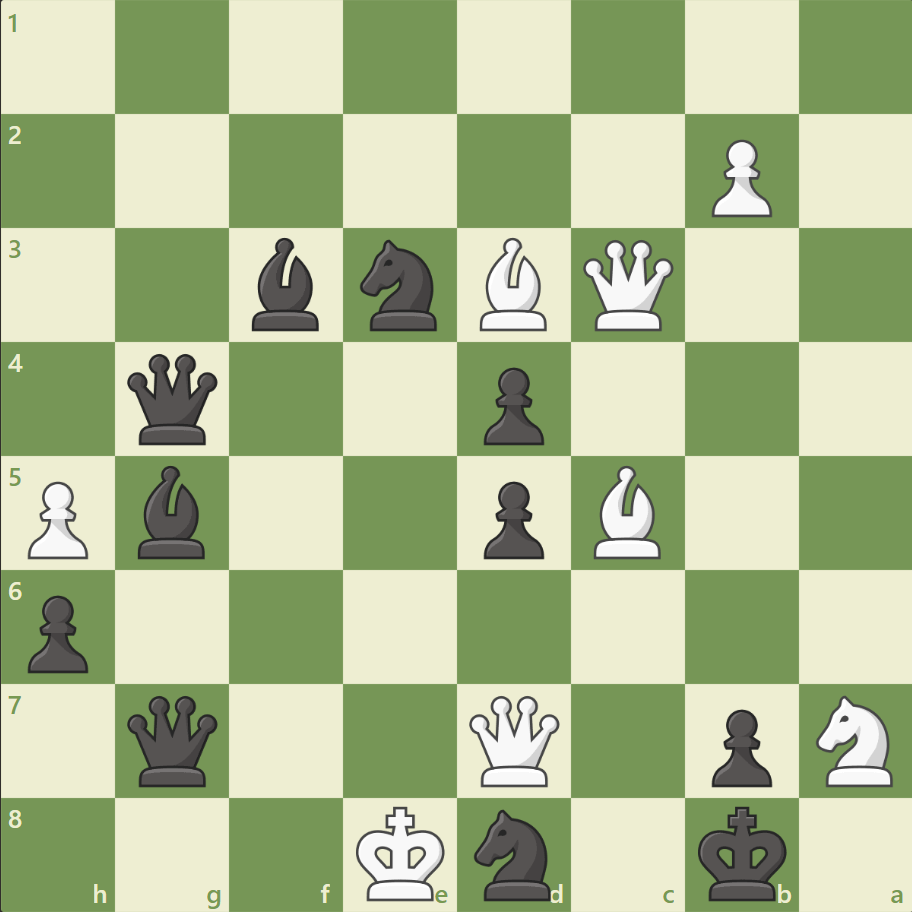B: (585, 460, 669, 563), (471, 233, 555, 336)
K: (351, 798, 451, 906)
N: (806, 688, 903, 791)
P: (20, 473, 95, 564), (701, 132, 776, 223)
Q: (464, 690, 563, 789), (578, 236, 677, 335)
b: (131, 460, 215, 563), (244, 233, 328, 336)
k: (692, 798, 792, 906)
n: (351, 234, 449, 337), (465, 802, 562, 904)
p: (701, 700, 776, 791), (20, 586, 95, 677), (474, 473, 549, 564), (474, 359, 549, 450)
q: (124, 349, 223, 449), (124, 690, 223, 789)
